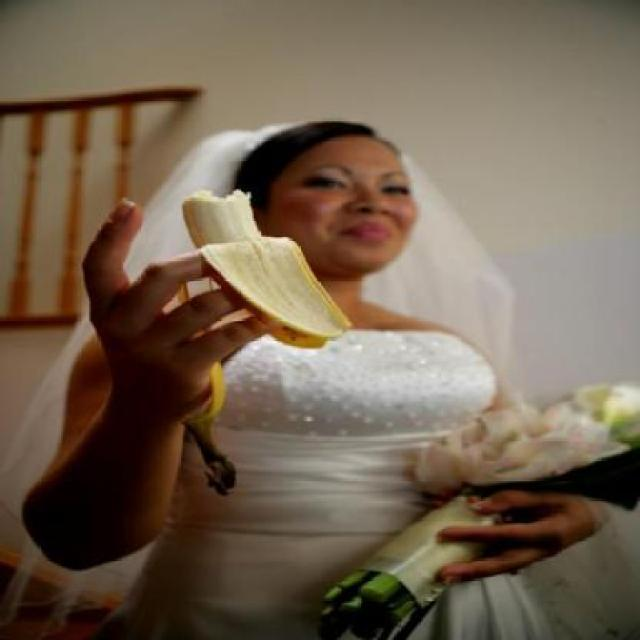Banana: (177, 187, 370, 352)
